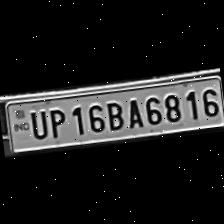1: (64, 101, 86, 135), (179, 86, 200, 121)
6: (139, 90, 163, 126), (196, 82, 220, 118), (83, 100, 106, 132)
8: (158, 88, 182, 124)
A: (120, 94, 144, 128)
B: (102, 96, 124, 130)
P: (44, 104, 68, 138)
U: (25, 106, 48, 140)
